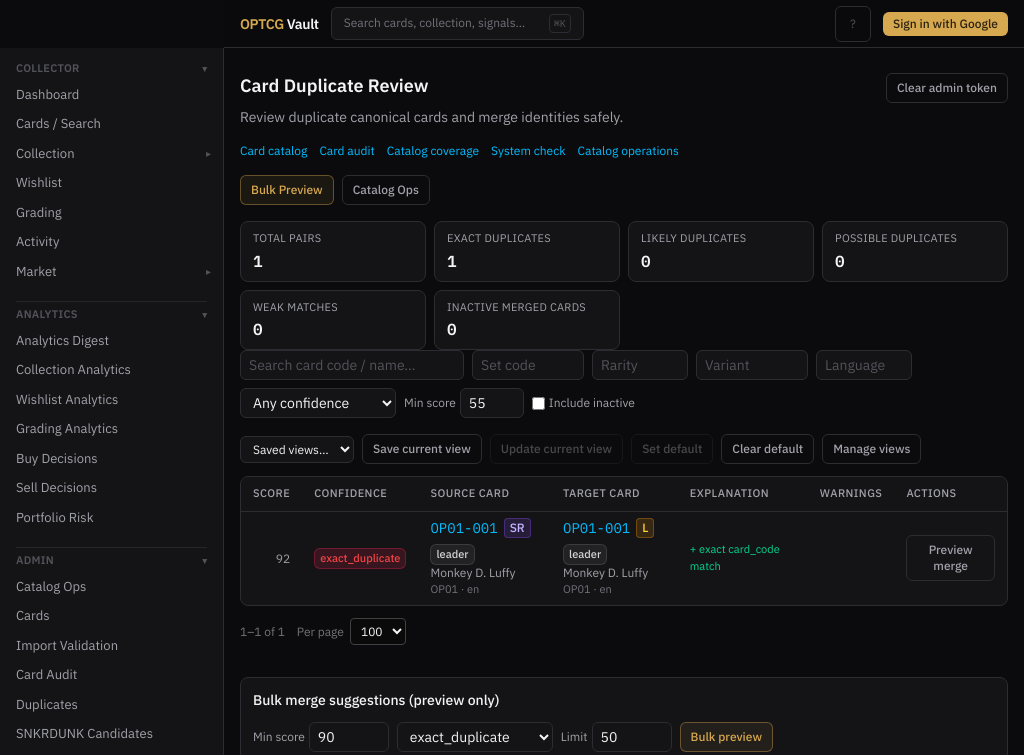
Test: CardDuplicatesPage › renders affected records in the merge preview modal
Expected: the link "OP01-001" next to "SR" is shown, top-left (430, 518), bottom-right (498, 538)
Click the button "Preview merge".
click(951, 558)  # box top-left (906, 535), bottom-right (995, 581)
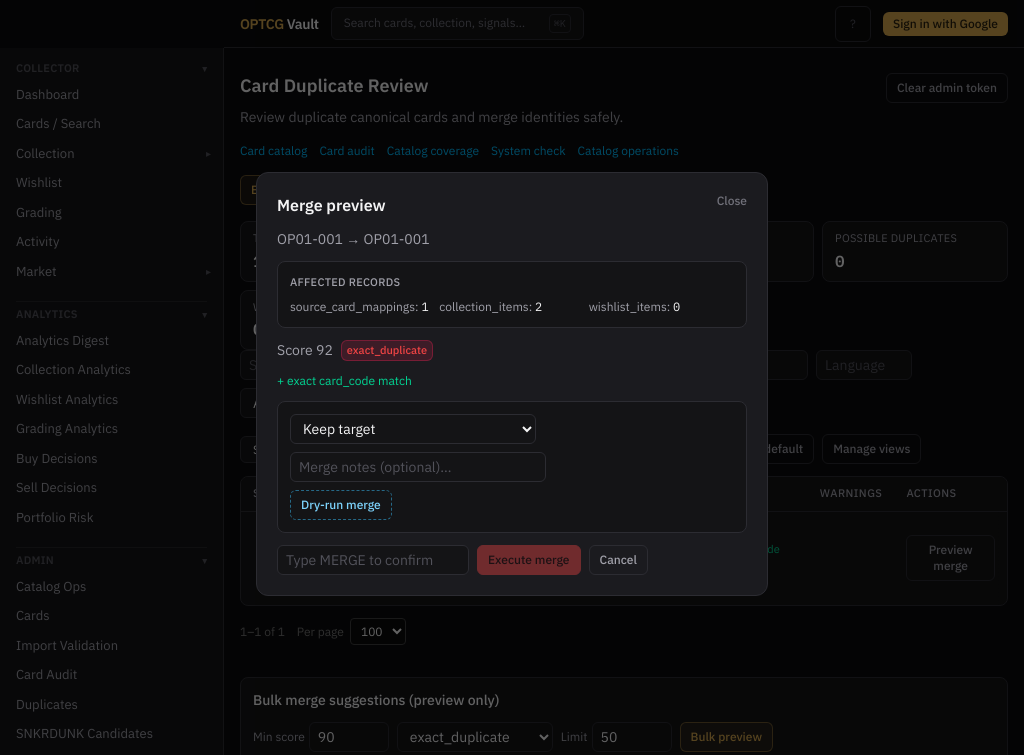
Result: the text "collection_items: 2" is shown at top-left (439, 299), bottom-right (542, 314)
